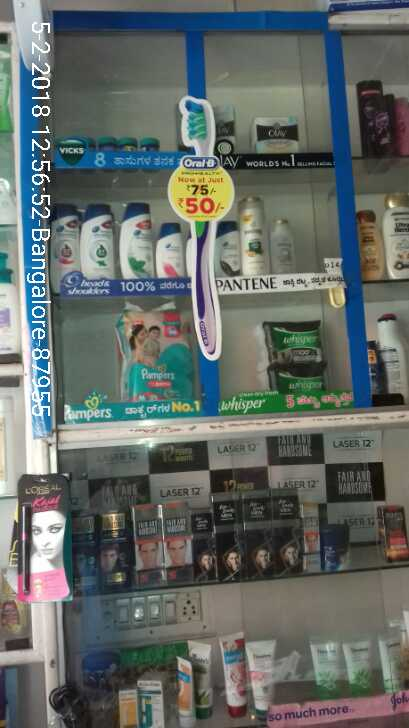vicks: (90, 131, 175, 158)
